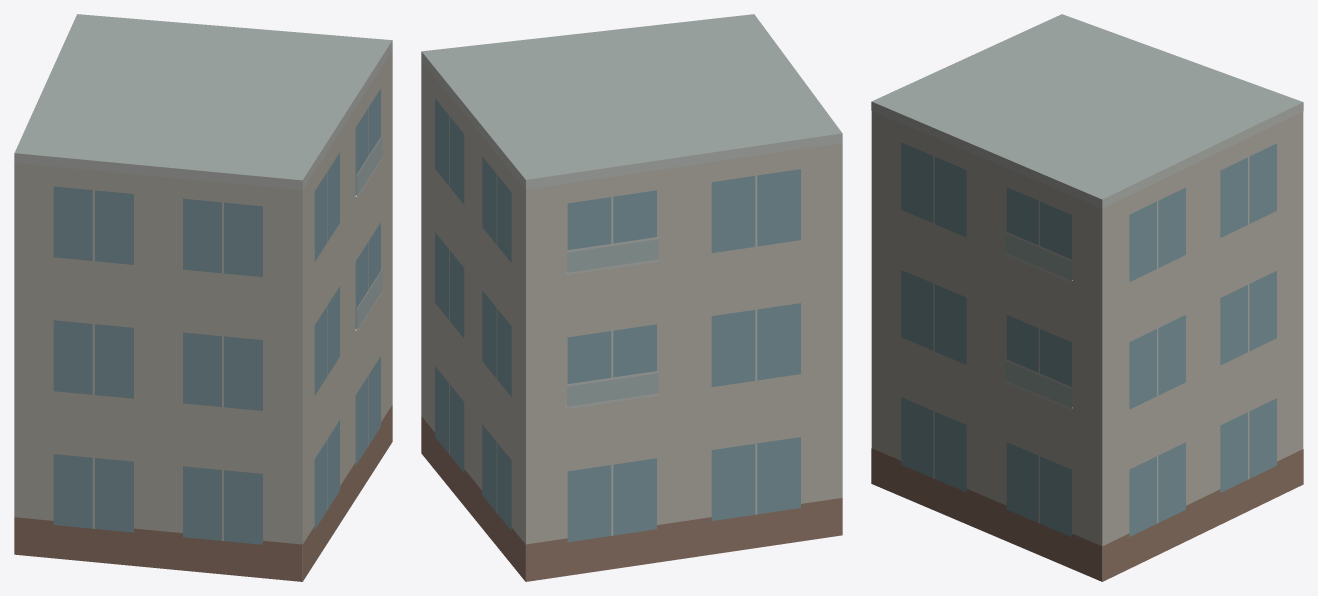
The model's file is survey-upis-33039144.glb.
The picture shows the model from 3 angles, left to right: view 1: azimuth 30°, elevation 25°; view 2: azimuth 150°, elevation 25°; view 3: azimuth 270°, elevation 25°; orthographic projection. The views are drawn at different scales.
Parts seen in each view (by area): view 1: survey-upis-33039144.tmp; view 2: survey-upis-33039144.tmp; view 3: survey-upis-33039144.tmp.
Boxes of the visible parts, x1,y1,x2,y2 form: survey-upis-33039144.tmp: (14, 14, 392, 581); survey-upis-33039144.tmp: (421, 14, 842, 581); survey-upis-33039144.tmp: (871, 14, 1303, 581).
Bounding box in the file's own units: 10.63 × 10.2 × 10.45.
